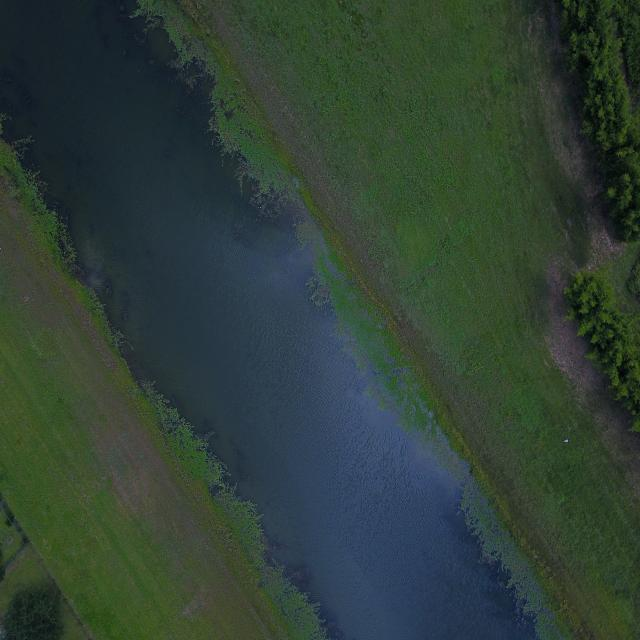fire: (0, 1, 535, 639)
